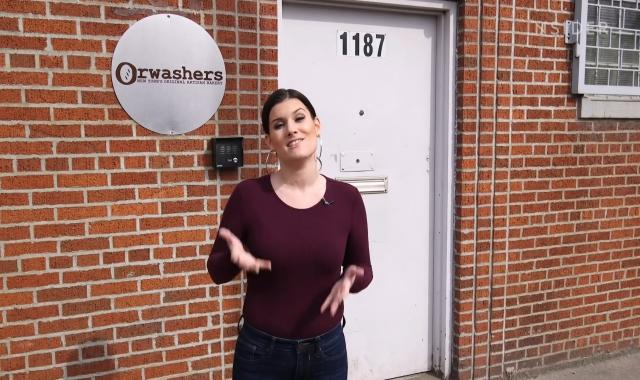no_hairnet: (261, 87, 322, 162)
